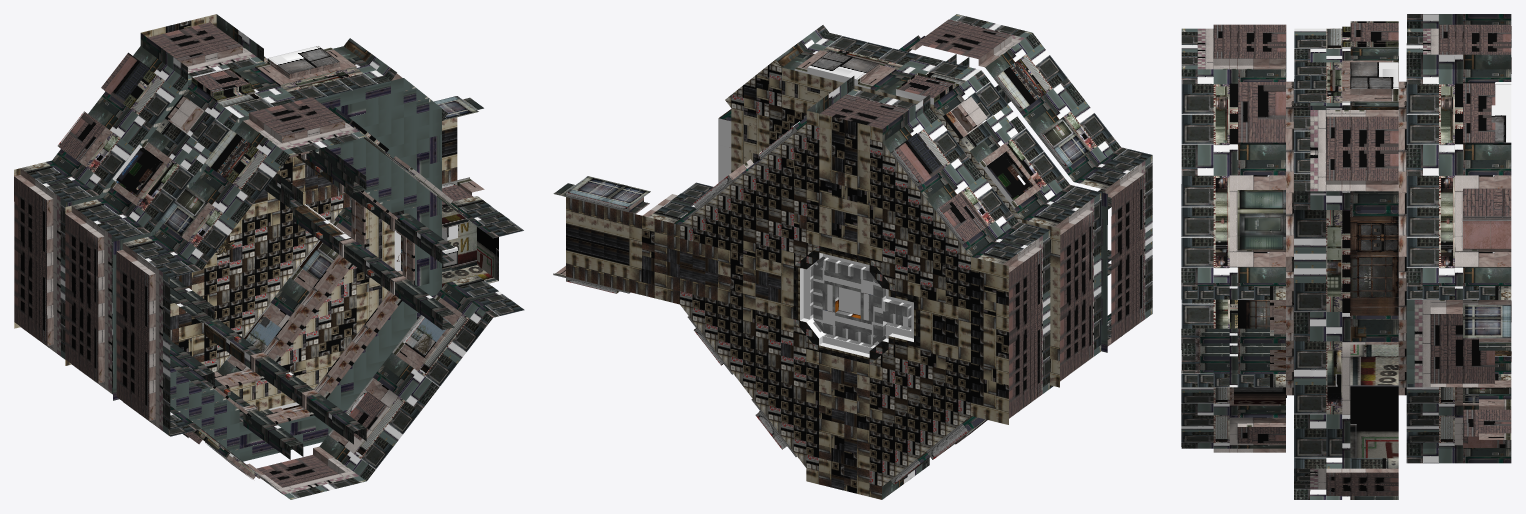
The model's file is SilentHill_MallHall.obj.
3 renders of one model, left to right at view 1: azimuth 30°, elevation 25°; view 2: azimuth 150°, elevation 25°; view 3: azimuth 270°, elevation 25°, orthographic. The views are drawn at different scales.
Visible parts, largest first — view 1: Submesh_06, Submesh_05, Submesh_04, Submesh_10, Submesh_02, Submesh_03, Submesh_07, Submesh_01, Submesh_08; view 2: Submesh_10, Submesh_06, Submesh_04, Submesh_08, Submesh_05, Submesh_02, Submesh_01, Submesh_03, Submesh_07; view 3: Submesh_06, Submesh_04, Submesh_05, Submesh_02, Submesh_01, Submesh_03, Submesh_08.
Boxes of the visible parts, x1,y1,x2,y2 form: Submesh_06: [28, 14, 524, 499]; Submesh_05: [14, 46, 484, 494]; Submesh_04: [14, 22, 473, 487]; Submesh_10: [14, 14, 469, 435]; Submesh_02: [21, 56, 498, 480]; Submesh_03: [89, 71, 467, 478]; Submesh_07: [104, 70, 450, 477]; Submesh_01: [160, 96, 478, 448]; Submesh_08: [112, 46, 457, 410]; Submesh_10: [553, 59, 1067, 499]; Submesh_06: [553, 14, 1152, 499]; Submesh_04: [820, 19, 1144, 478]; Submesh_08: [718, 51, 1014, 435]; Submesh_05: [555, 19, 1145, 447]; Submesh_02: [648, 46, 1111, 423]; Submesh_01: [566, 117, 1089, 449]; Submesh_03: [754, 49, 1095, 223]; Submesh_07: [894, 59, 1045, 186]; Submesh_06: [1181, 14, 1511, 499]; Submesh_04: [1213, 23, 1511, 495]; Submesh_05: [1197, 28, 1511, 489]; Submesh_02: [1213, 21, 1511, 468]; Submesh_01: [1237, 61, 1511, 403]; Submesh_03: [1215, 29, 1462, 442]; Submesh_08: [1350, 56, 1511, 142].
Bounding box in the file's own units: 2882 × 2282 × 1642.
